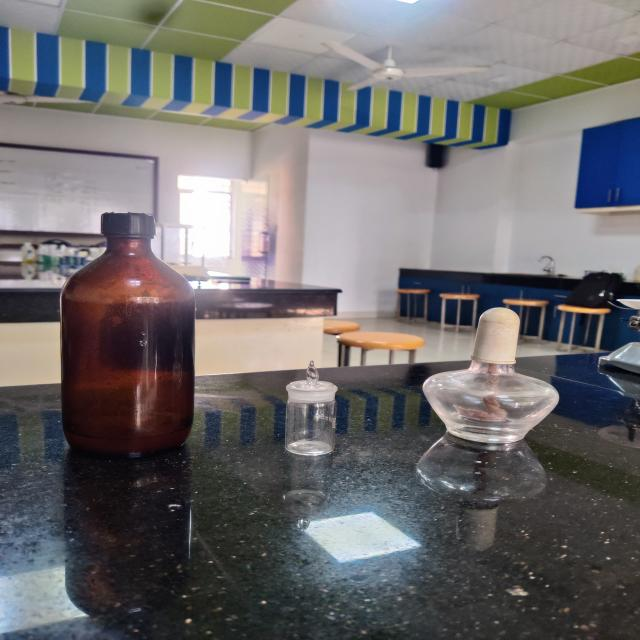Nessler_Reagent_Bottle: (41, 194, 220, 485)
Spirit_Lamp: (406, 282, 577, 467)
Weighing_Bottle: (256, 346, 371, 481)
